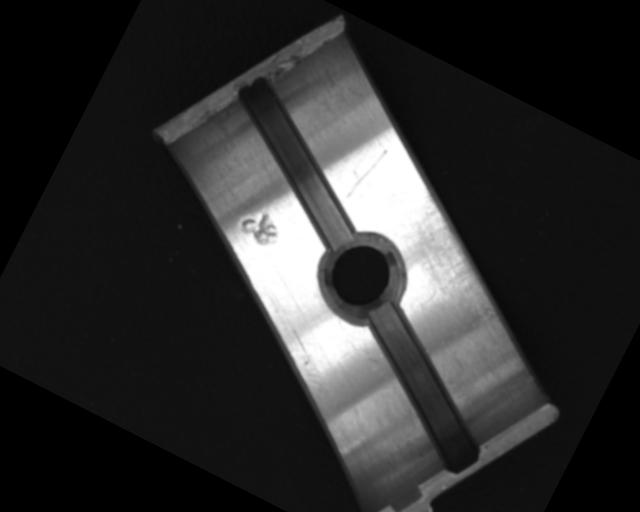bruise: (234, 198, 290, 251)
gap: (320, 295, 523, 479), (196, 72, 398, 253)
hole: (301, 219, 419, 339)
nick: (342, 141, 389, 207)
scratch: (374, 185, 540, 341)
